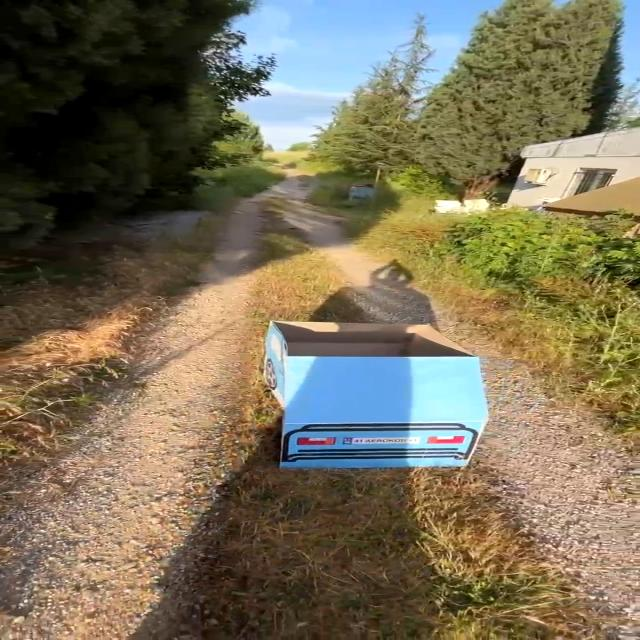blue_car: (226, 299, 525, 498)
